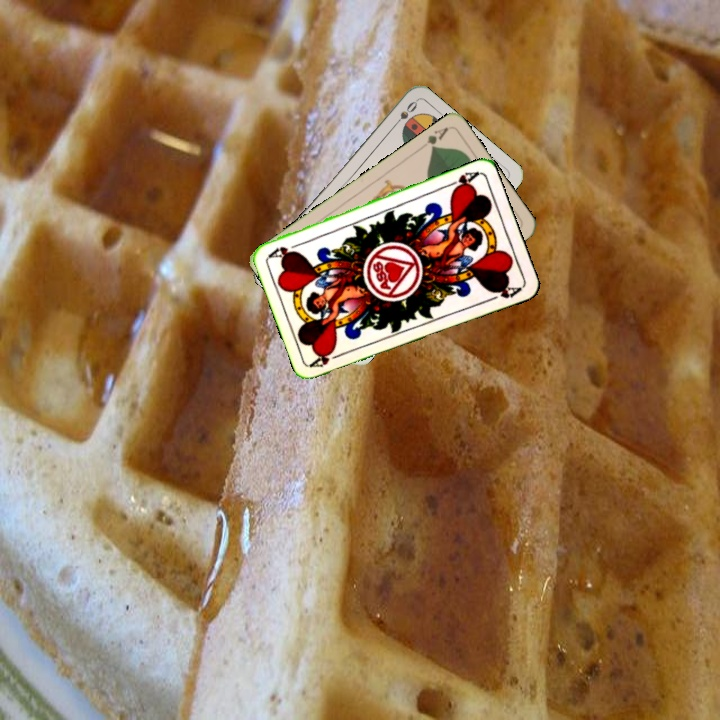GA: (423, 123, 451, 153)
HA: (442, 167, 481, 193), (307, 347, 347, 370)
SO: (388, 97, 420, 131)
